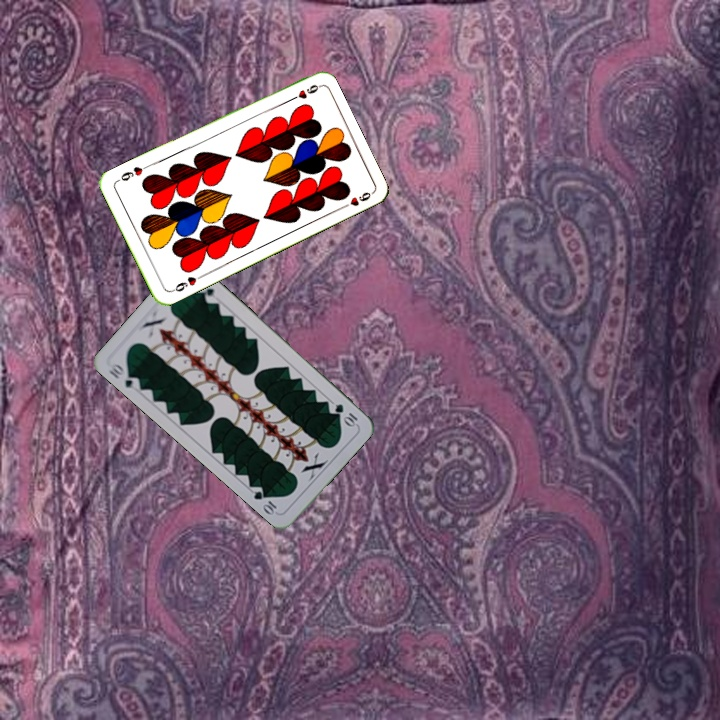G10: (105, 358, 143, 393), (331, 399, 360, 429)
H9: (283, 80, 322, 105), (166, 271, 205, 295)
